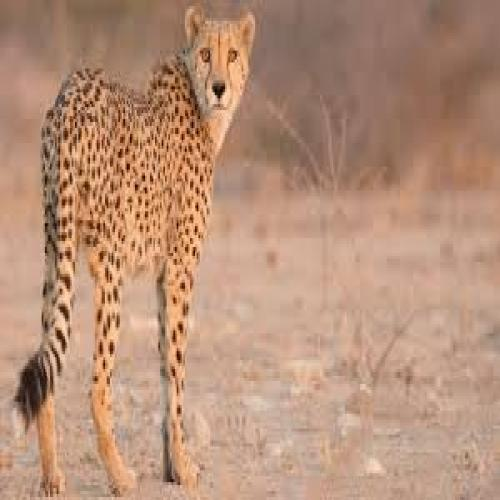cheetah-endangered: (18, 5, 256, 491)
